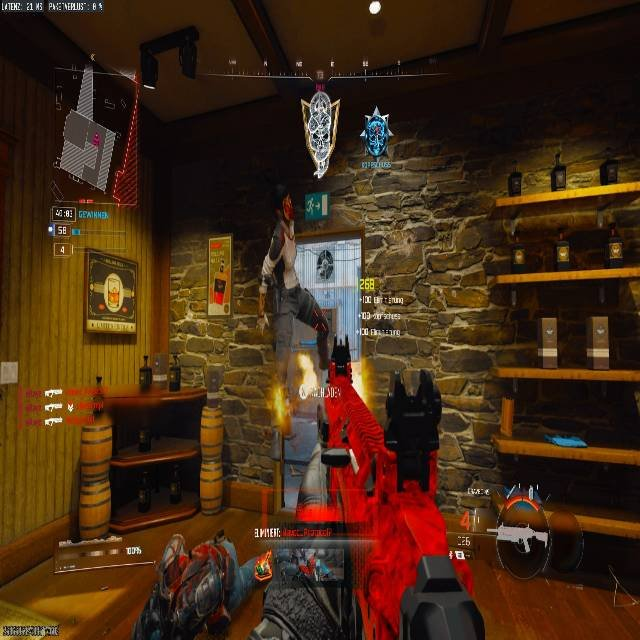player: (360, 110, 392, 161), (298, 550, 319, 581)
